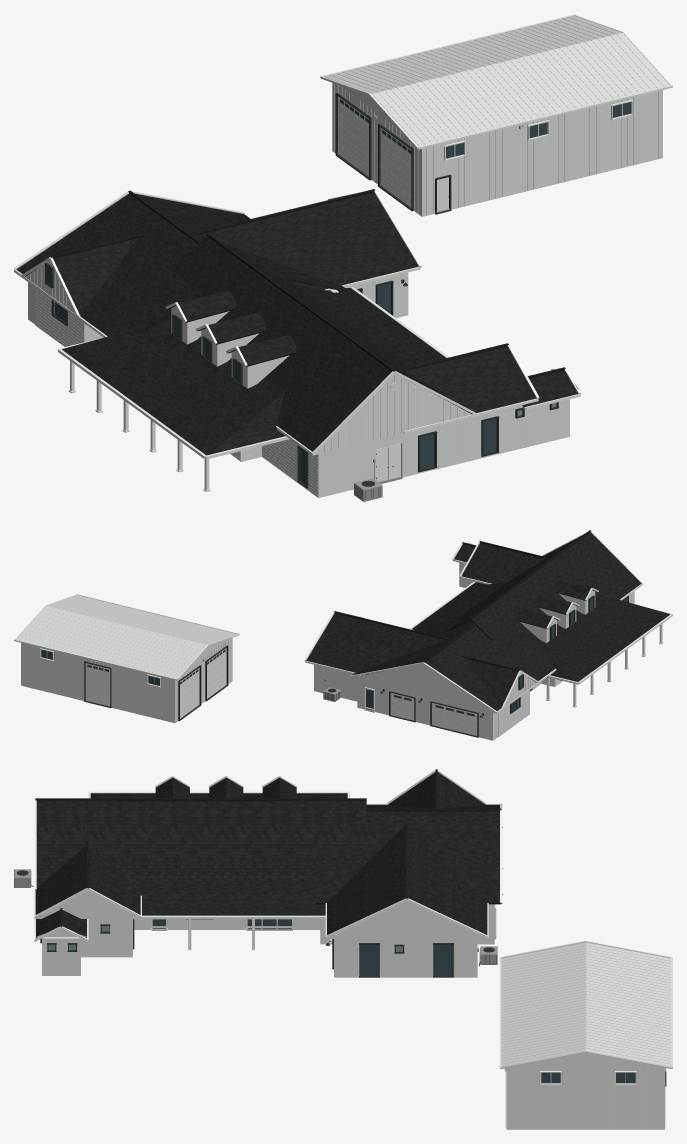
Rendered from house-study.glb.
3 views of the same model, one above another, from view 1: azimuth 30°, elevation 25°; view 2: azimuth 150°, elevation 25°; view 3: azimuth 270°, elevation 25° (orthographic). The views are drawn at different scales.
Size of the model in its own units: 52.3 by 8.11 by 48.16.
Materials: 11 (1 with a texture image).
